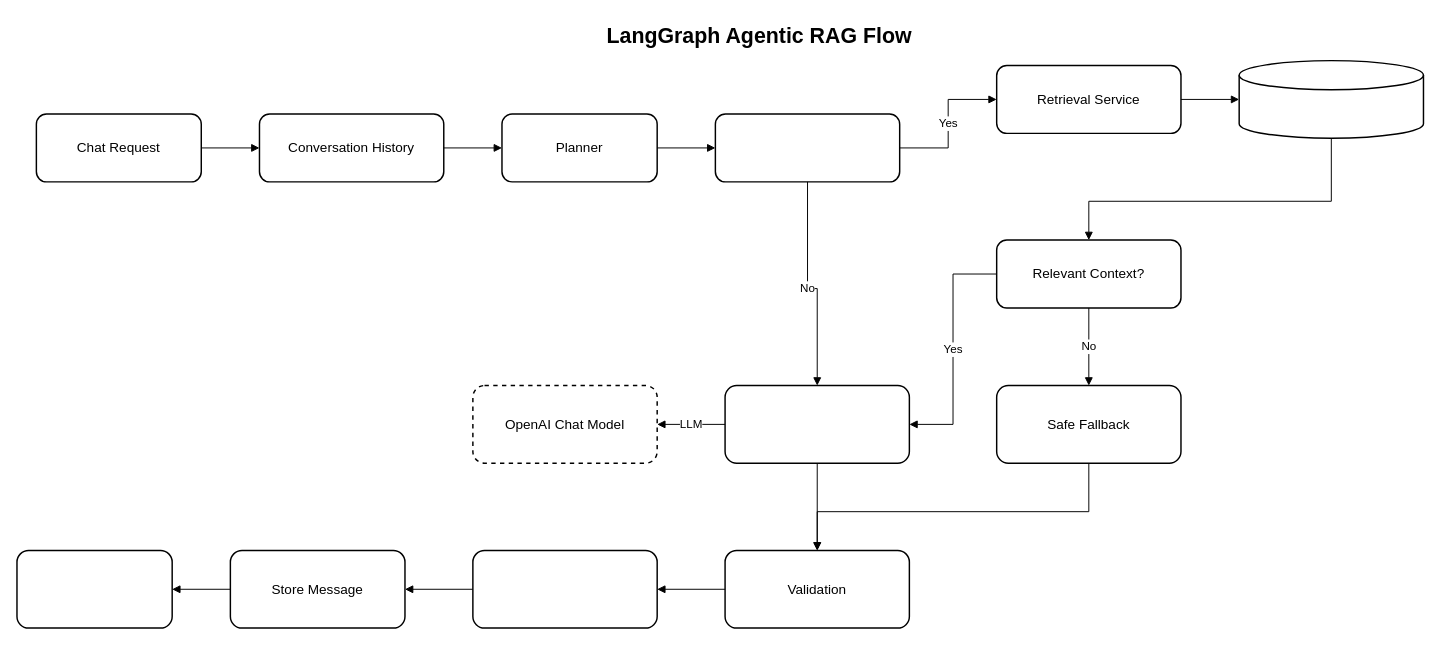
The diagram is 1441 pixels wide and 645 high, and some of its shapes have lost their labels. Each missing label, with the centre of its shape:
"Answer + Sources" belongs at point (564, 588).
"ChromaDB Search" belongs at point (1331, 99).
"Reasoning" belongs at point (817, 423).
"Retrieval Required?" belongs at point (807, 147).
"Return / Stream" belongs at point (94, 588).
